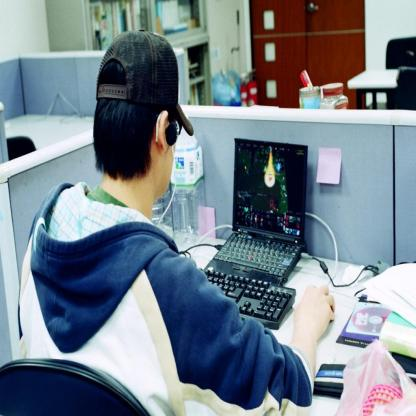board: (204, 138, 308, 284), (171, 115, 204, 250)
